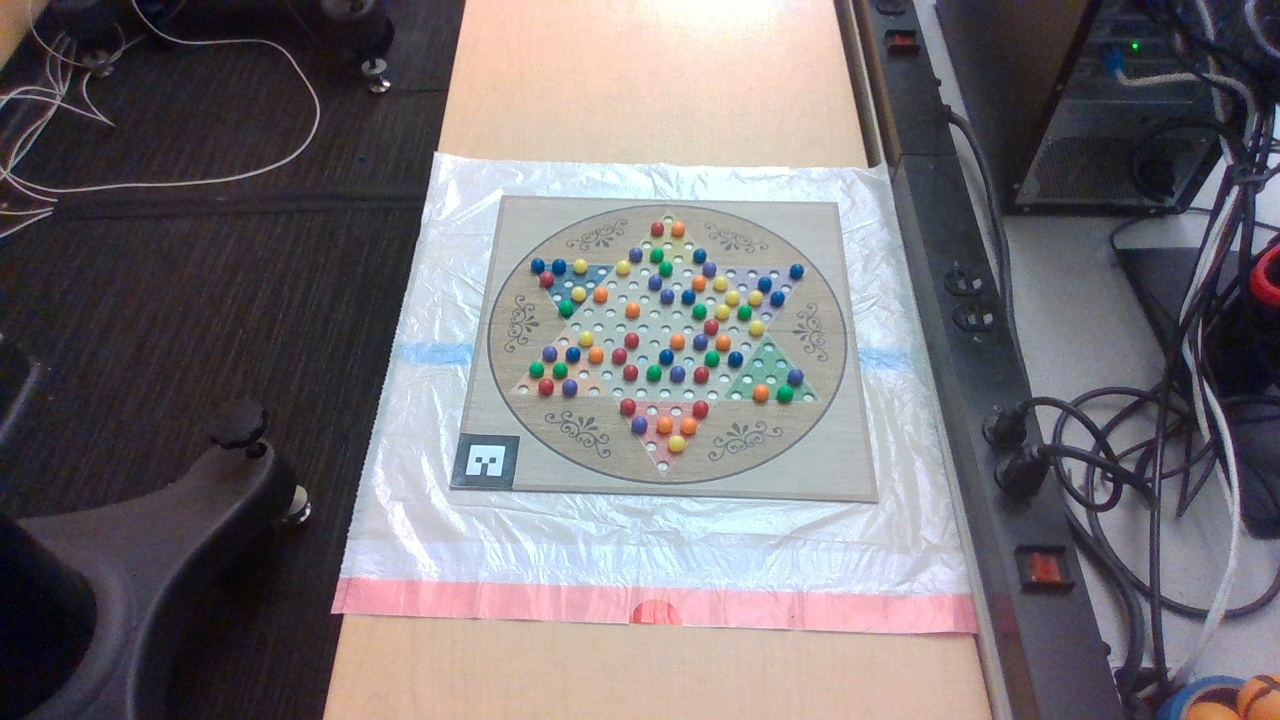lower_left: (443, 474, 460, 495)
lower_right: (871, 493, 884, 510)
upper_left: (497, 190, 511, 204)
upper_right: (829, 197, 845, 212)
